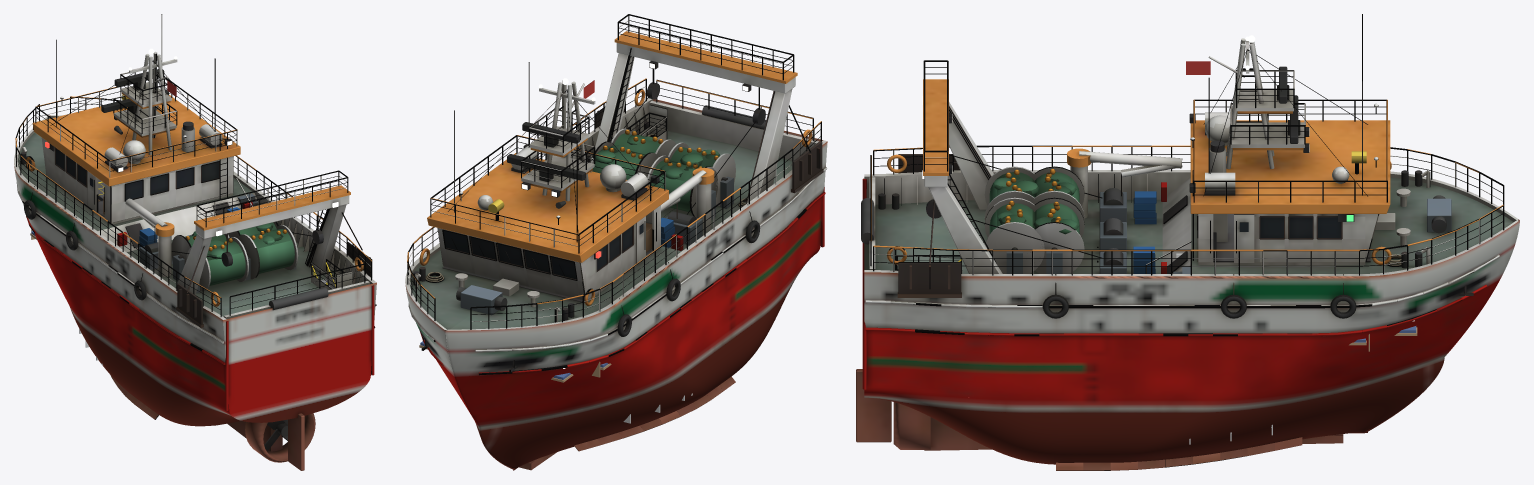
The model's file is trawler.glb.
3 views of the same model, side by side, from view 1: azimuth 30°, elevation 25°; view 2: azimuth 150°, elevation 25°; view 3: azimuth 270°, elevation 25° (orthographic). The views are drawn at different scales.
Parts seen in each view (by area): view 1: fittings, hull; view 2: fittings, hull; view 3: fittings, hull.
Part boxes in pixels (<box>): fittings: <box>14,14,376,470</box>; hull: <box>14,115,376,426</box>; fittings: <box>405,14,827,470</box>; hull: <box>405,99,827,470</box>; fittings: <box>856,14,1518,470</box>; hull: <box>864,219,1519,464</box>.
Size of what is drawn, in the model's own units: 9.73 by 16.58 by 24.25.
Materials: 59 (30 with a texture image).
